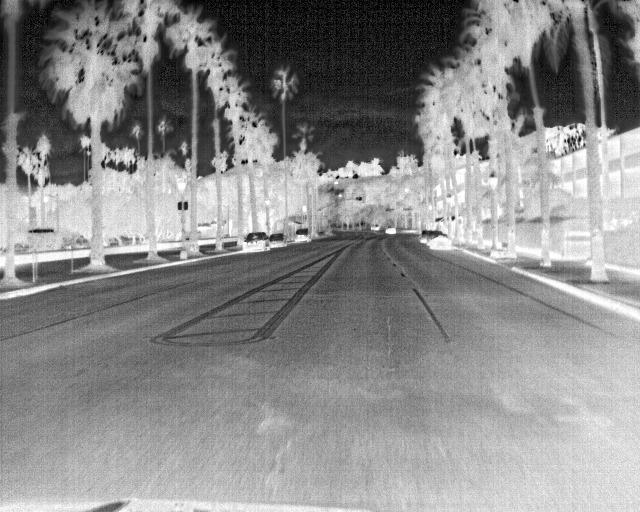car: (241, 232, 271, 254), (429, 232, 453, 250), (264, 230, 286, 247), (291, 225, 311, 243), (419, 228, 437, 244), (427, 233, 443, 247), (383, 223, 399, 237), (369, 220, 381, 233)
